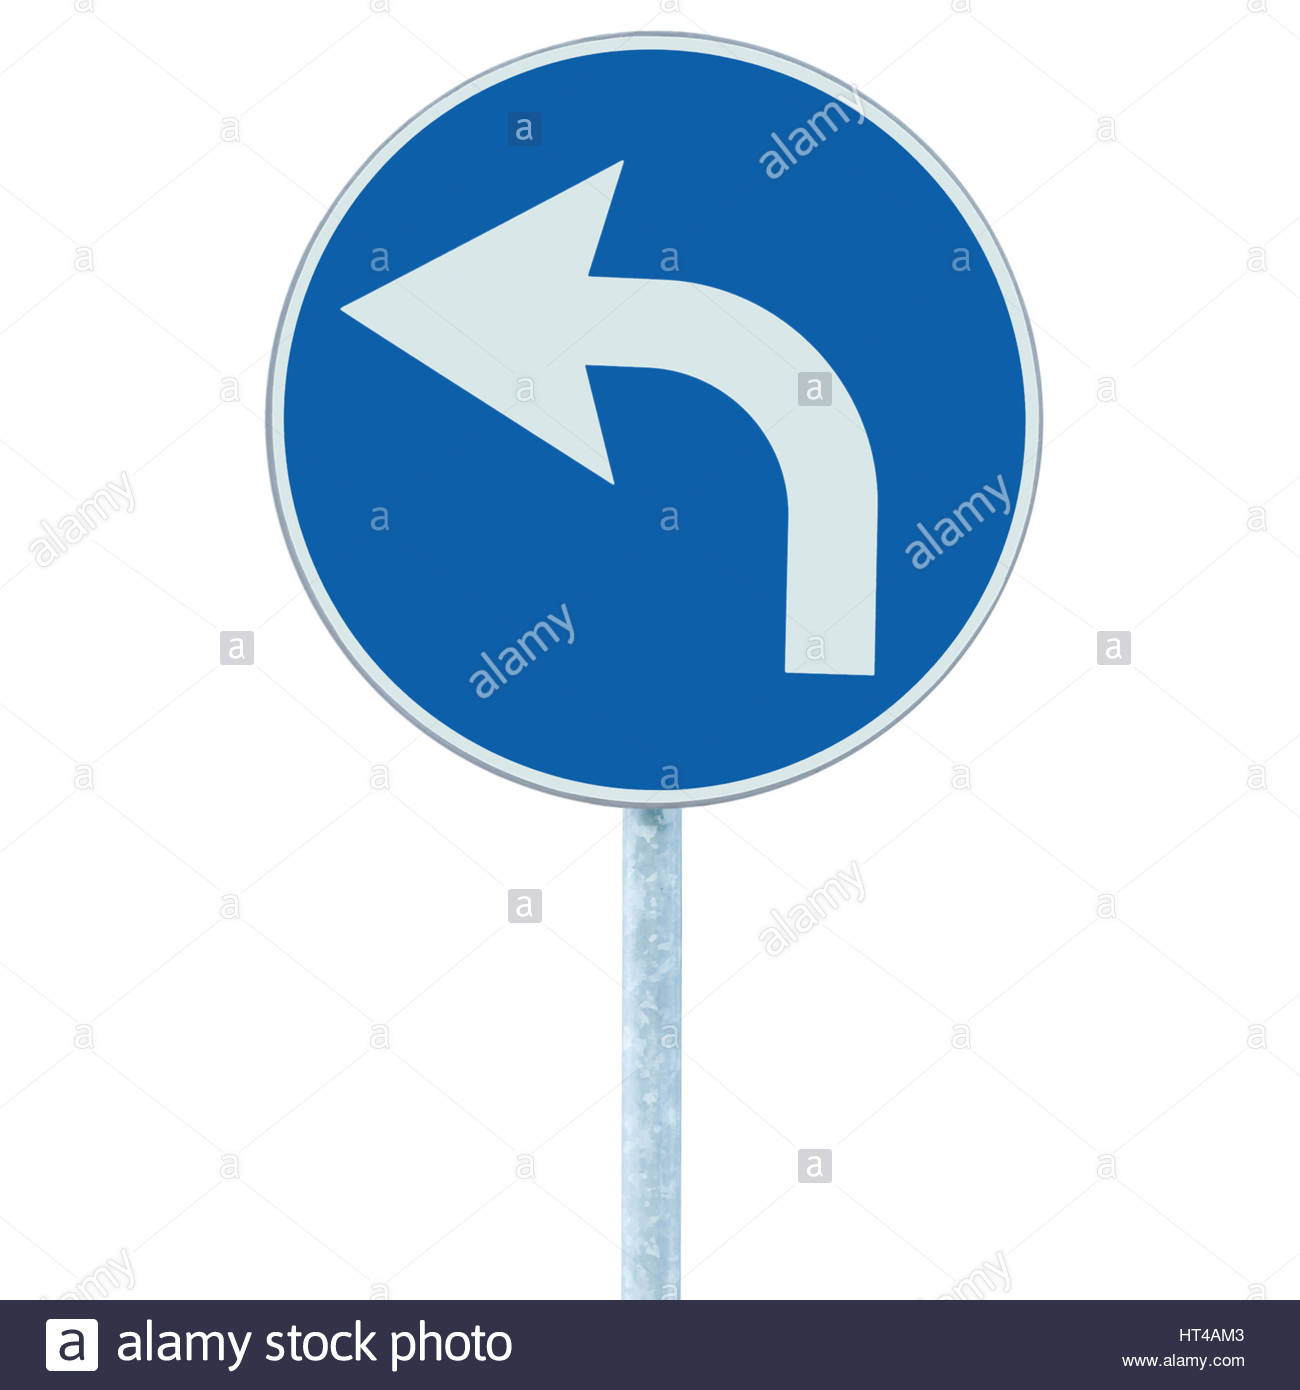left: (326, 145, 902, 700)
